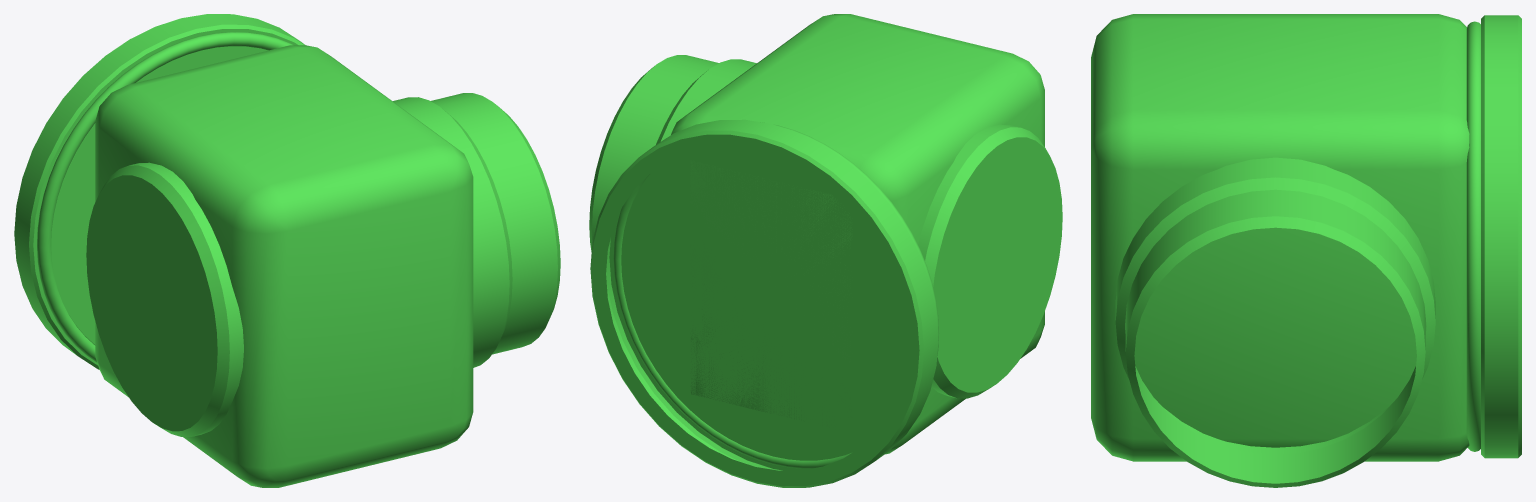
The model's file is arm_02_movie.obj.
3 renders of one model, left to right at view 1: azimuth 30°, elevation 25°; view 2: azimuth 150°, elevation 25°; view 3: azimuth 270°, elevation 25°, orthographic. The views are drawn at different scales.
Parts seen in each view (by area): view 1: Arm_02_Movie; view 2: Arm_02_Movie; view 3: Arm_02_Movie.
Part boxes in pixels (left/top/right/bottom): Arm_02_Movie: left=14, top=14, right=560, bottom=487; Arm_02_Movie: left=589, top=14, right=1062, bottom=487; Arm_02_Movie: left=1091, top=14, right=1521, bottom=487.
Bounding box in the file's own units: 245 × 216 × 210.
